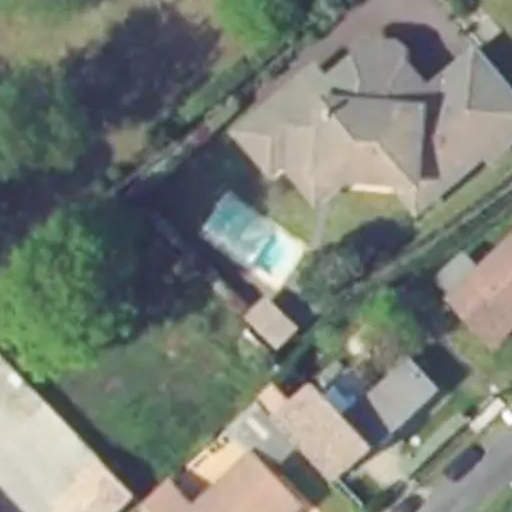pool: (198, 190, 301, 287)
